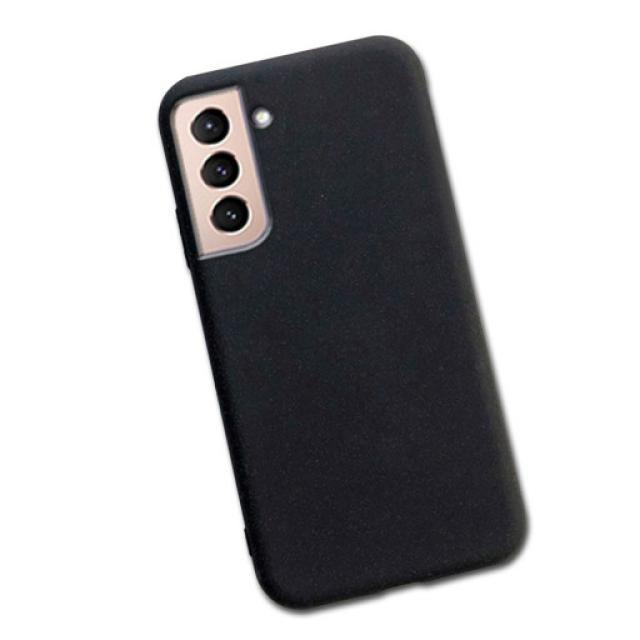phone: (159, 34, 531, 611)
